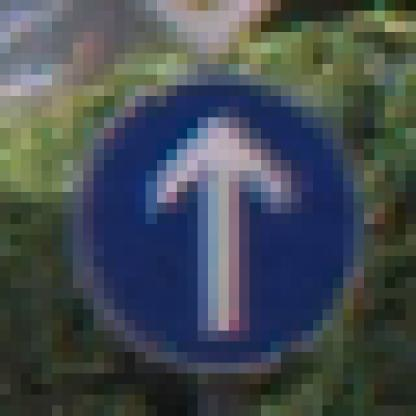AheadOnly: (64, 54, 355, 353)
